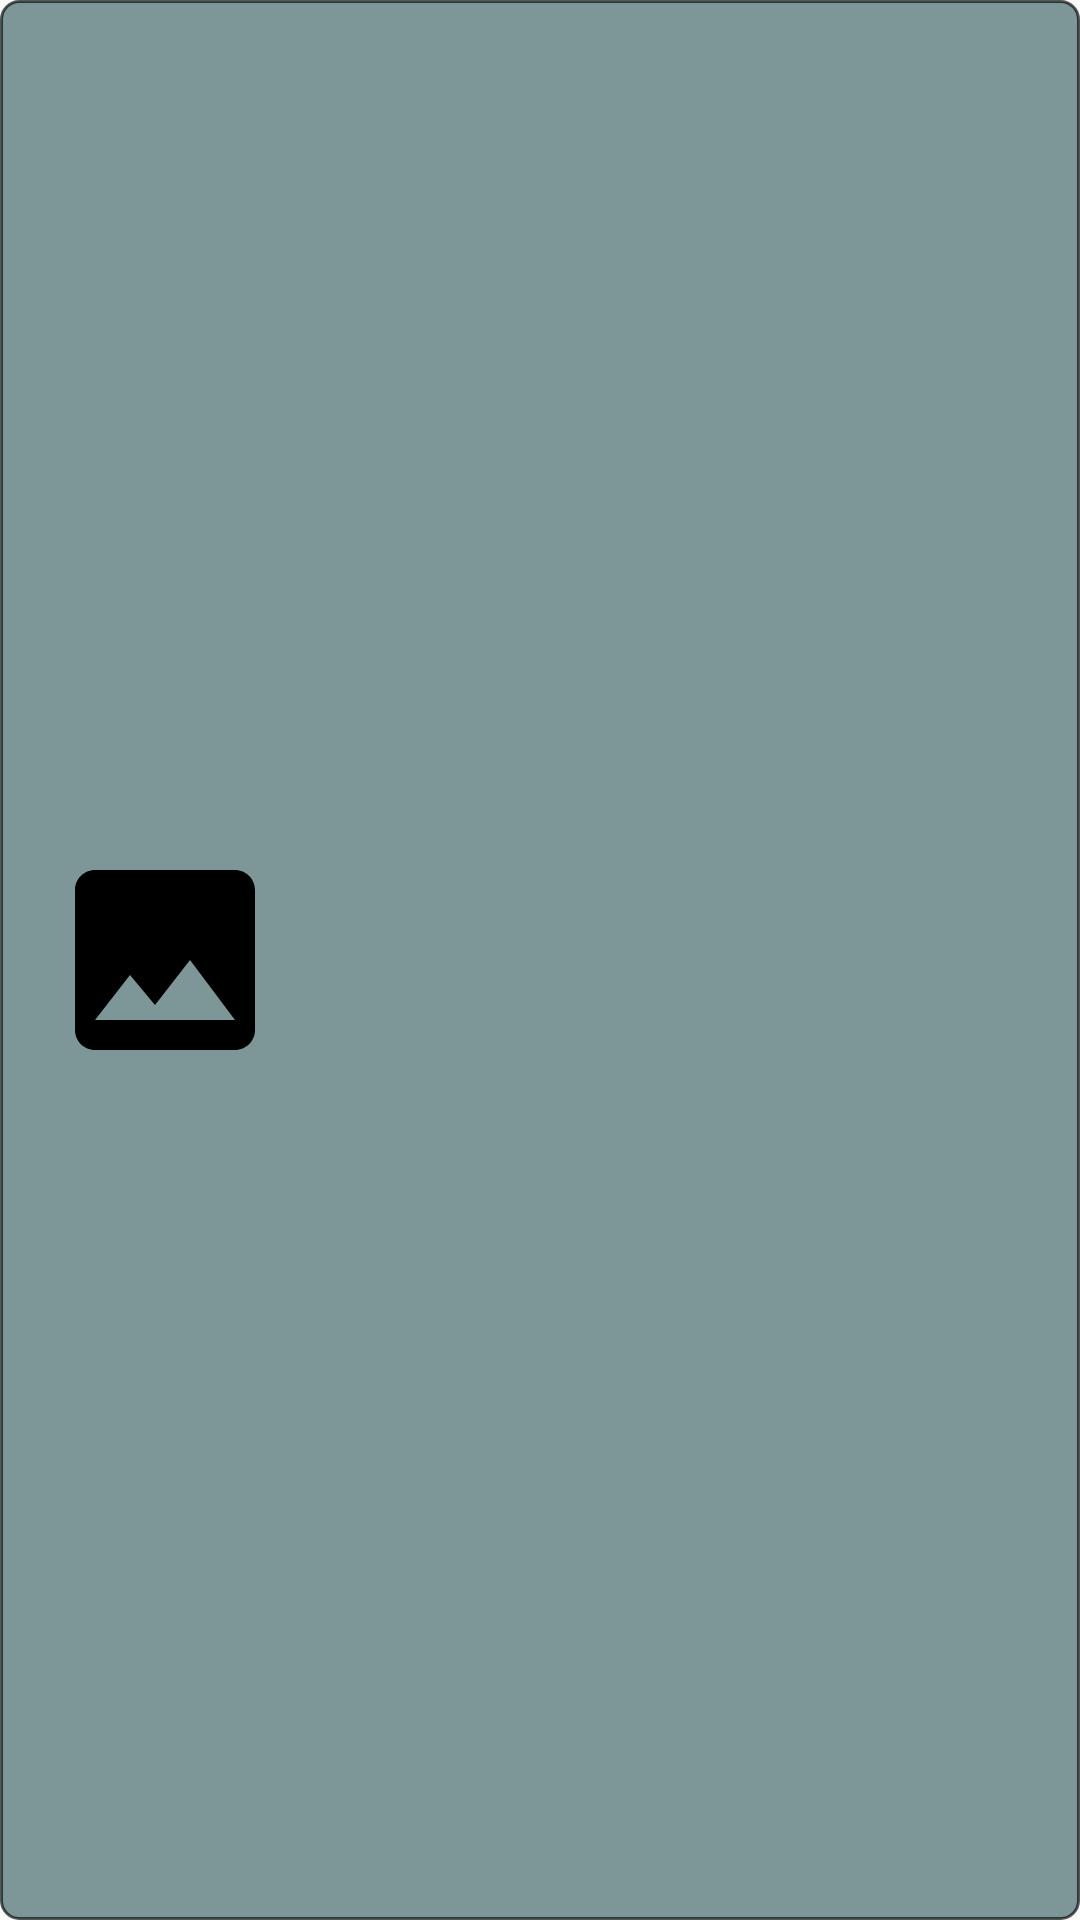

Locate icon controls on the screen. Image size 1080 × 1920, boxes as (x1=x1, y1=y1, x2=x2, y2=y2).
photo: (x1=75, y1=870, x2=255, y2=1050)
